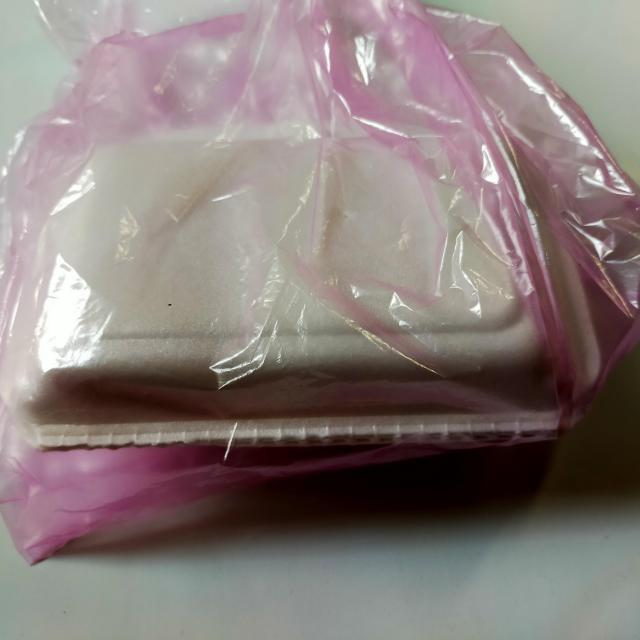styrofoam: (2, 1, 638, 564)
